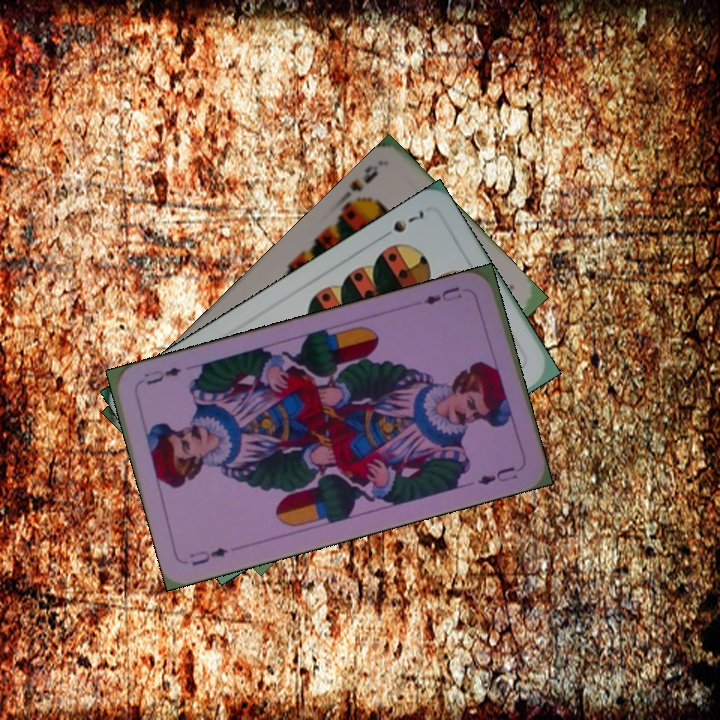EU: (186, 543, 231, 569), (419, 282, 464, 307)
S7: (376, 206, 428, 242)
S9: (335, 161, 381, 208)
